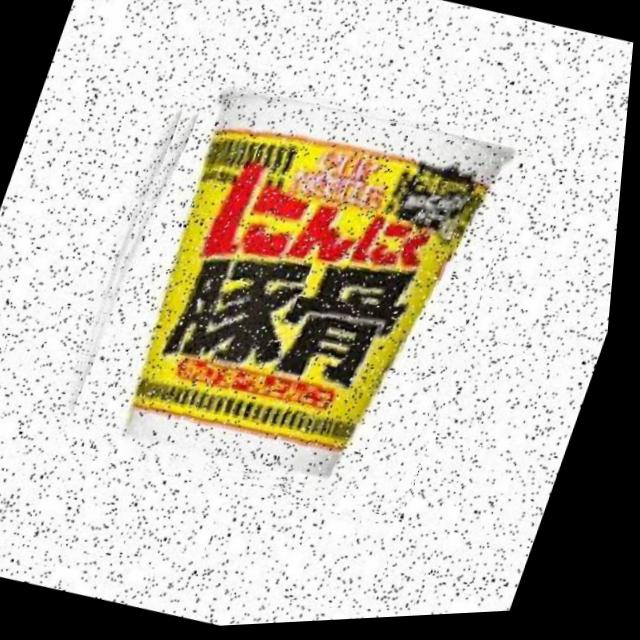Miscellaneous: (52, 59, 541, 536)
